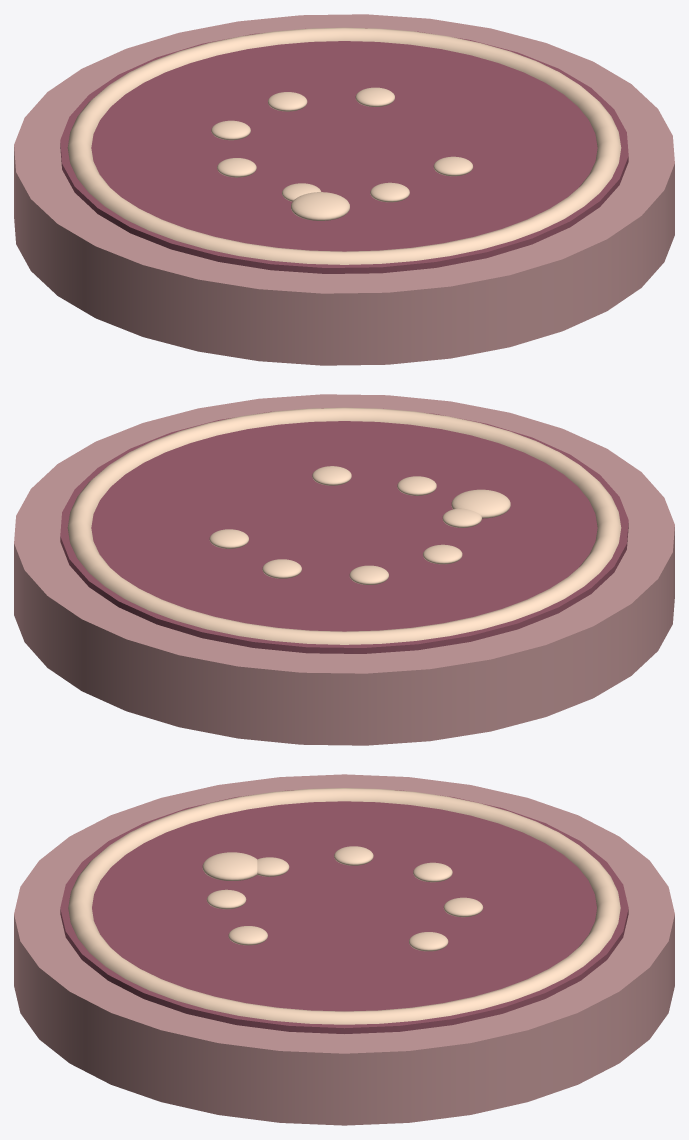
Rendered from chip_foe.glb.
The picture shows the model from 3 angles, top to bottom: view 1: azimuth 30°, elevation 25°; view 2: azimuth 150°, elevation 25°; view 3: azimuth 270°, elevation 25°; orthographic projection.
Parts seen in each view (by area): view 1: CoinFace, CoinEdge, GiltFaceRing, NorthStar, MoonDot, _MeshInstance3D_113, _MeshInstance3D_115, _MeshInstance3D_116, _MeshInstance3D_117, _MeshInstance3D_118; view 2: CoinFace, CoinEdge, GiltFaceRing, NorthStar, MoonDot, _MeshInstance3D_113, _MeshInstance3D_117, _MeshInstance3D_115, _MeshInstance3D_116, _MeshInstance3D_118, _MeshInstance3D_114; view 3: CoinFace, CoinEdge, GiltFaceRing, NorthStar, _MeshInstance3D_117, _MeshInstance3D_115, _MeshInstance3D_116, MoonDot, _MeshInstance3D_113, _MeshInstance3D_118, _MeshInstance3D_114.
Boxes of the visible parts, x1,y1,x2,y2 form: CoinFace: (60, 28, 628, 273); CoinEdge: (14, 14, 674, 365); GiltFaceRing: (67, 27, 621, 264); NorthStar: (291, 192, 349, 220); MoonDot: (433, 156, 473, 176); _MeshInstance3D_113: (370, 182, 409, 202); _MeshInstance3D_115: (217, 158, 256, 177); _MeshInstance3D_116: (211, 120, 250, 140); _MeshInstance3D_117: (268, 92, 307, 111); _MeshInstance3D_118: (355, 87, 394, 106); CoinFace: (60, 408, 628, 653); CoinEdge: (14, 394, 674, 745); GiltFaceRing: (67, 407, 621, 644); NorthStar: (451, 489, 510, 518); MoonDot: (312, 466, 351, 485); _MeshInstance3D_113: (397, 476, 436, 495); _MeshInstance3D_117: (262, 559, 301, 578); _MeshInstance3D_115: (423, 544, 462, 564); _MeshInstance3D_116: (349, 565, 388, 584); _MeshInstance3D_118: (209, 529, 248, 548); _MeshInstance3D_114: (442, 508, 481, 527); CoinFace: (60, 790, 628, 1033); CoinEdge: (14, 774, 674, 1125); GiltFaceRing: (68, 788, 620, 1024); NorthStar: (202, 852, 257, 880); _MeshInstance3D_117: (443, 897, 483, 917); _MeshInstance3D_115: (334, 846, 373, 865); _MeshInstance3D_116: (413, 862, 452, 882); MoonDot: (228, 926, 267, 945); _MeshInstance3D_113: (206, 889, 246, 909); _MeshInstance3D_118: (409, 932, 448, 951); _MeshInstance3D_114: (257, 857, 289, 876).
Size of the model in its own units: 0.1 by 0.0147 by 0.1.
